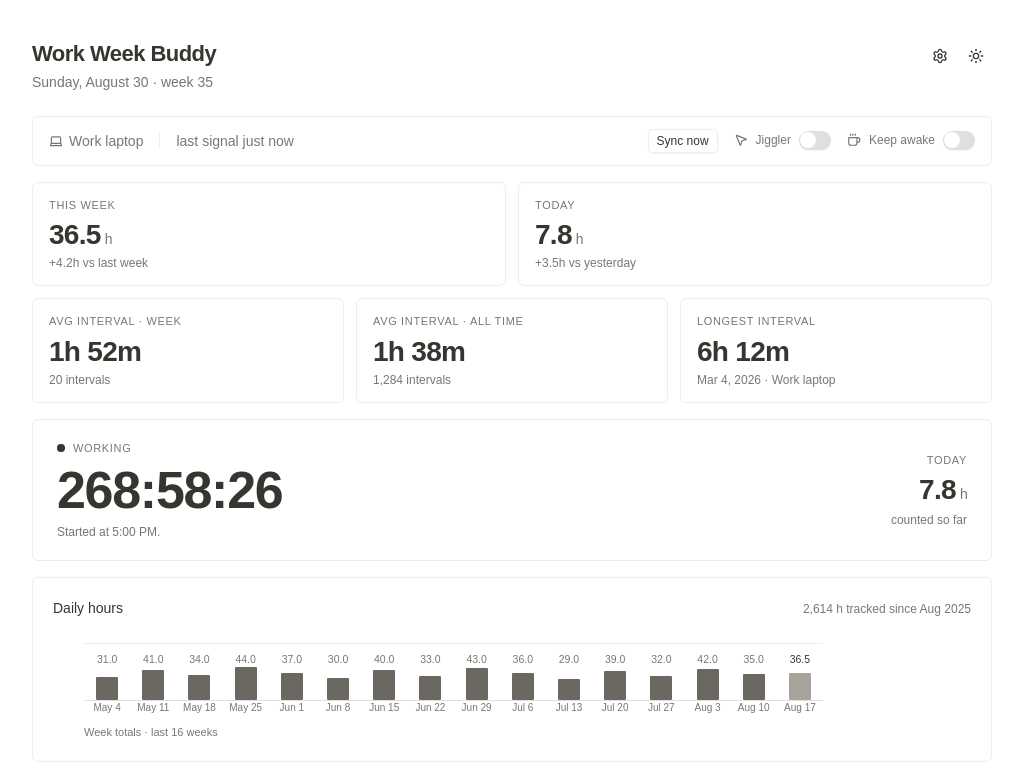
Test: what it says when it worked › does not read as finished when rows are STILL waiting
Click the button "Sync now" at (683, 140), box [648,128,718,152]
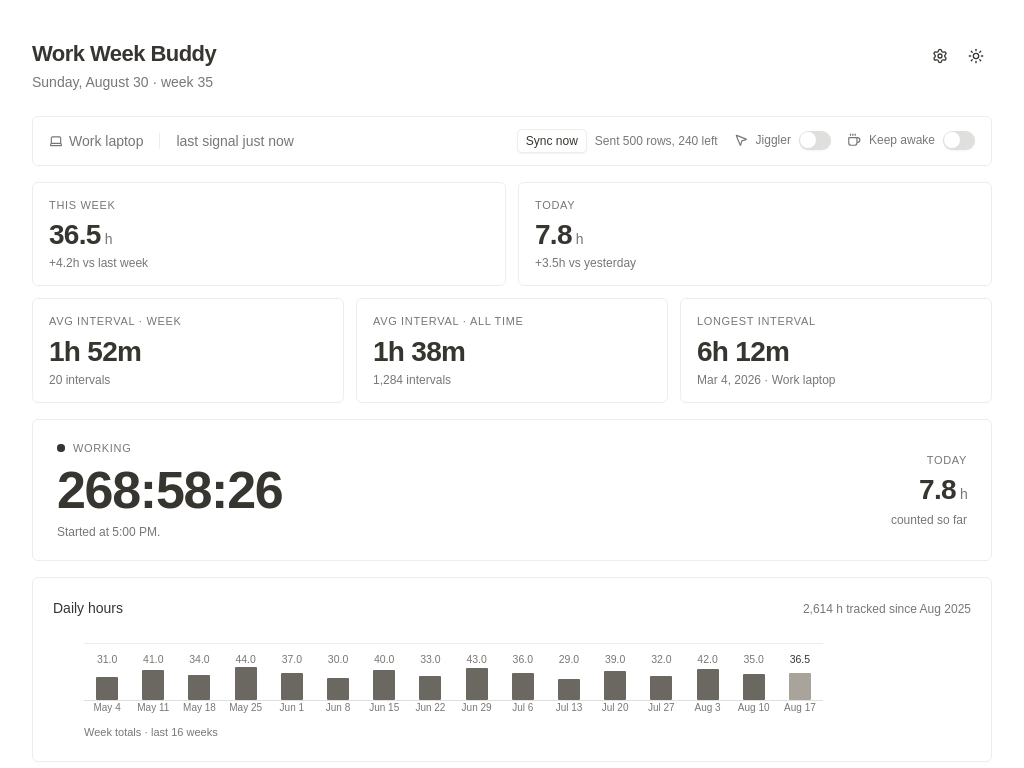
expect the message "Sent 500 rows, 240 left" is shown: met, box [595,132,718,148]
